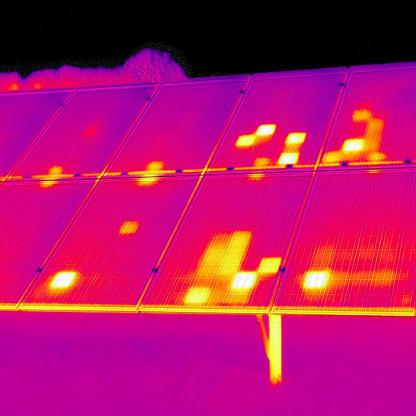Defects: (302, 268, 326, 291), (232, 273, 253, 292), (186, 290, 208, 308), (50, 273, 75, 288), (232, 236, 250, 253), (264, 256, 278, 275), (208, 248, 223, 264), (370, 120, 382, 139), (238, 131, 253, 146), (355, 108, 370, 122), (280, 153, 296, 166), (326, 153, 340, 167), (288, 133, 303, 146), (125, 222, 137, 238), (260, 125, 273, 139), (220, 266, 235, 278), (203, 268, 218, 280), (369, 148, 384, 159), (344, 139, 360, 149)
